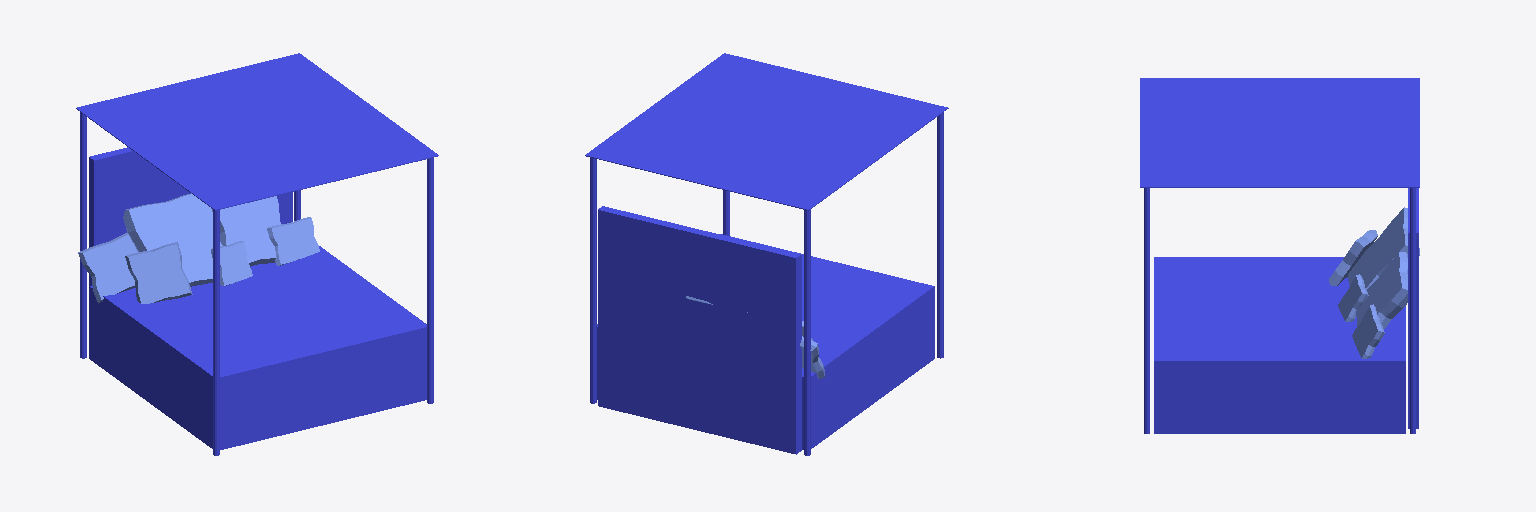
File: Bed.obj
3 renders of one model, left to right at view 1: azimuth 30°, elevation 25°; view 2: azimuth 150°, elevation 25°; view 3: azimuth 270°, elevation 25°, orthographic.
Visible parts, largest first — view 1: Bed; view 2: Bed; view 3: Bed.
Part boxes in pixels (x1,y1,x2,y2): Bed: (76, 53, 438, 455); Bed: (585, 53, 948, 455); Bed: (1140, 78, 1419, 433).
Size of the model in its own units: 3.03 by 3.17 by 3.23.